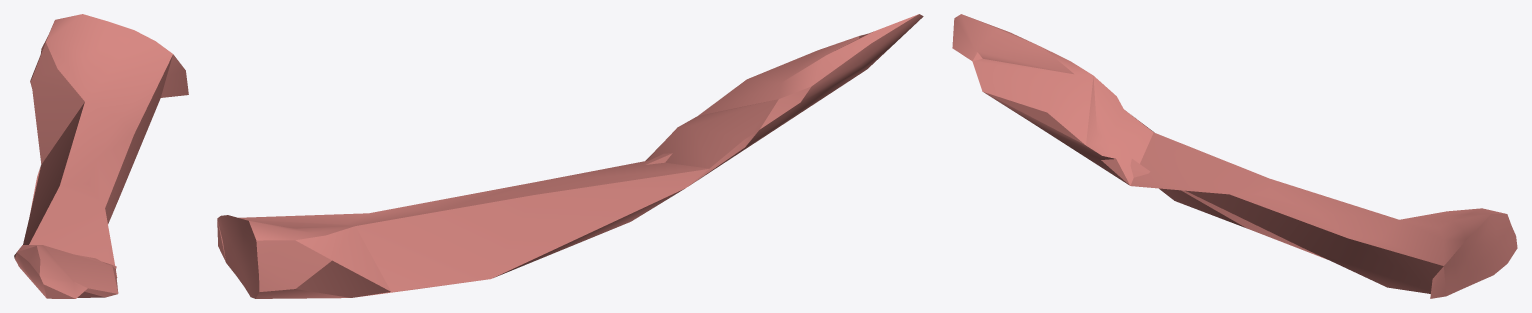
Rendered from fma47306_mm1734m.glb.
The picture shows the model from 3 angles, left to right: view 1: azimuth 30°, elevation 25°; view 2: azimuth 150°, elevation 25°; view 3: azimuth 270°, elevation 25°; orthographic projection. The views are drawn at different scales.
Parts seen in each view (by area): view 1: FMA47306_MM1734M; view 2: FMA47306_MM1734M; view 3: FMA47306_MM1734M.
Boxes of the visible parts, x1,y1,x2,y2 form: FMA47306_MM1734M: (14, 14, 188, 298); FMA47306_MM1734M: (217, 14, 923, 298); FMA47306_MM1734M: (952, 14, 1517, 298).
Bounding box in the file's own units: 0.0144 × 0.00528 × 0.0198.
